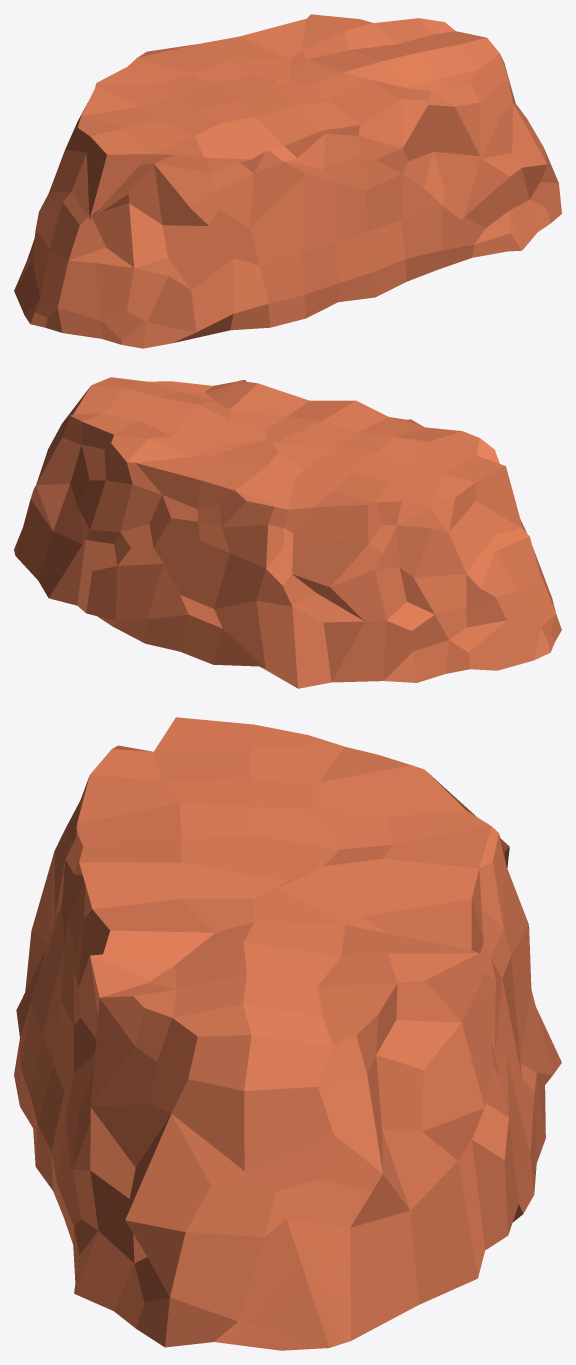
The model's file is Plateau_V01.fbx.
3 renders of one model, top to bottom at view 1: azimuth 30°, elevation 25°; view 2: azimuth 150°, elevation 25°; view 3: azimuth 270°, elevation 25°, orthographic. The views are drawn at different scales.
Parts seen in each view (by area): view 1: Plateau_1; view 2: Plateau_1; view 3: Plateau_1.
Boxes of the visible parts, bbox=[...] form: Plateau_1: bbox=[14, 14, 561, 348]; Plateau_1: bbox=[14, 377, 561, 688]; Plateau_1: bbox=[14, 717, 561, 1350].
Bounding box in the file's own units: 919 × 295 × 513.
